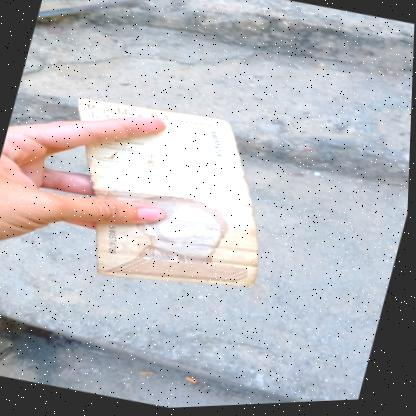vef_front: (33, 84, 297, 314)
